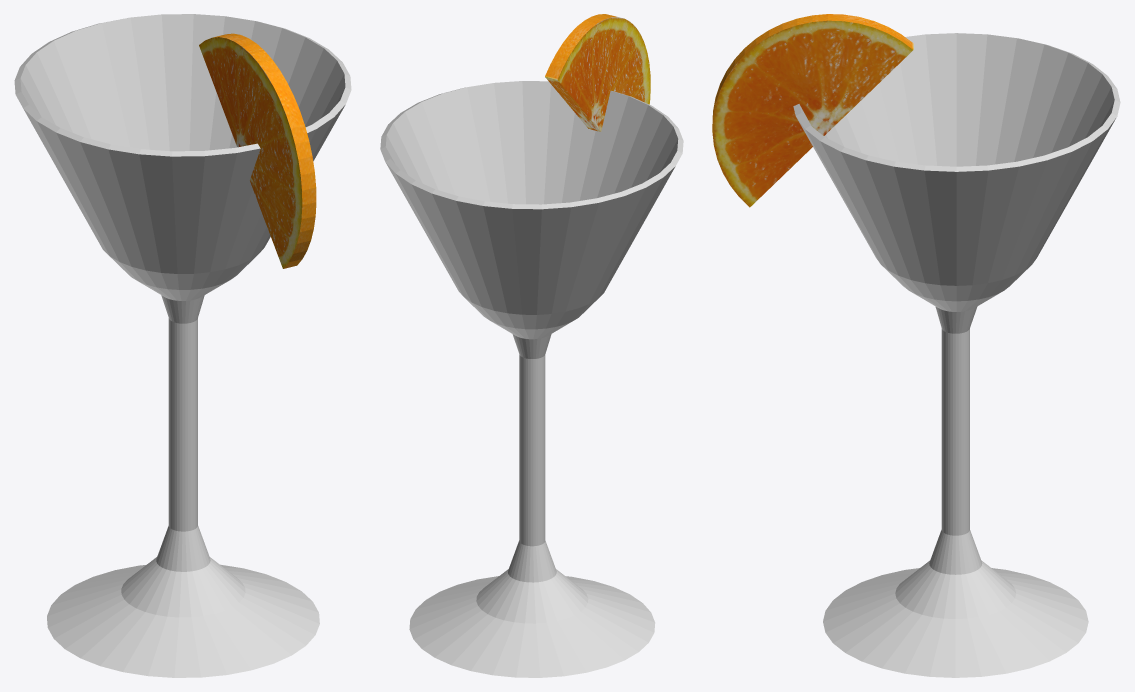
Rendered from 오렌지술잔.fbx.
3 views of the same model, side by side, from view 1: azimuth 30°, elevation 25°; view 2: azimuth 150°, elevation 25°; view 3: azimuth 270°, elevation 25° (orthographic). The views are drawn at different scales.
Visible parts, largest first — view 1: Cone, Cylinder.001; view 2: Cone, Cylinder.001; view 3: Cone, Cylinder.001.
Part boxes in pixels (box(x1,y1,x2,y2)): Cone: box(14, 14, 351, 677); Cylinder.001: box(199, 33, 316, 268); Cone: box(380, 81, 683, 677); Cylinder.001: box(545, 14, 650, 131); Cone: box(793, 33, 1120, 677); Cylinder.001: box(712, 14, 913, 207).
Size of the model in its own units: 200 by 407 by 249.
